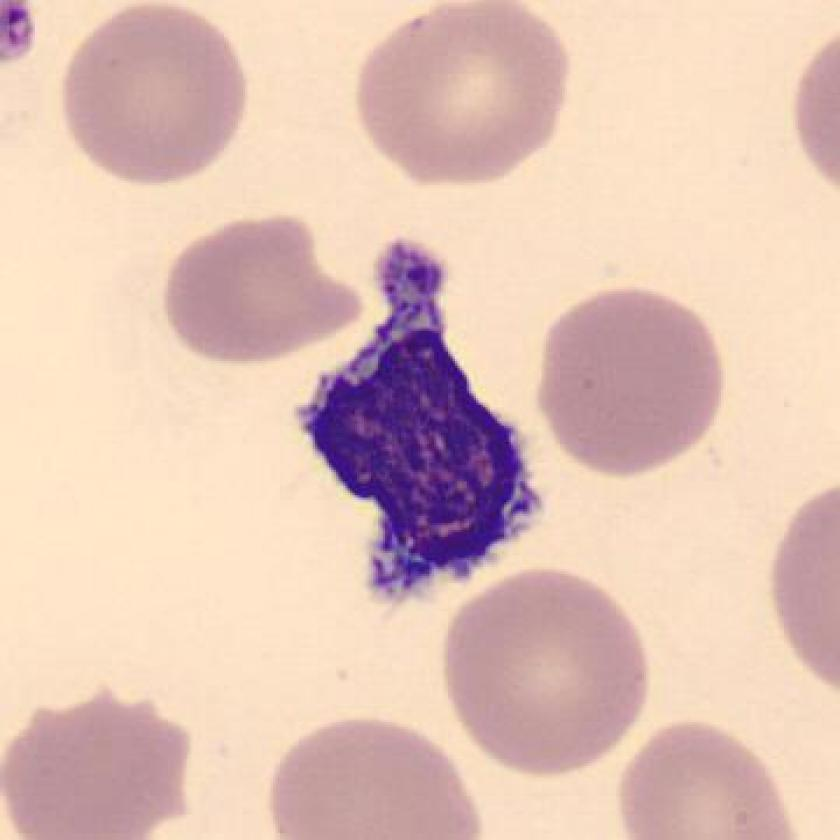lymphocyte: (281, 223, 566, 626)
